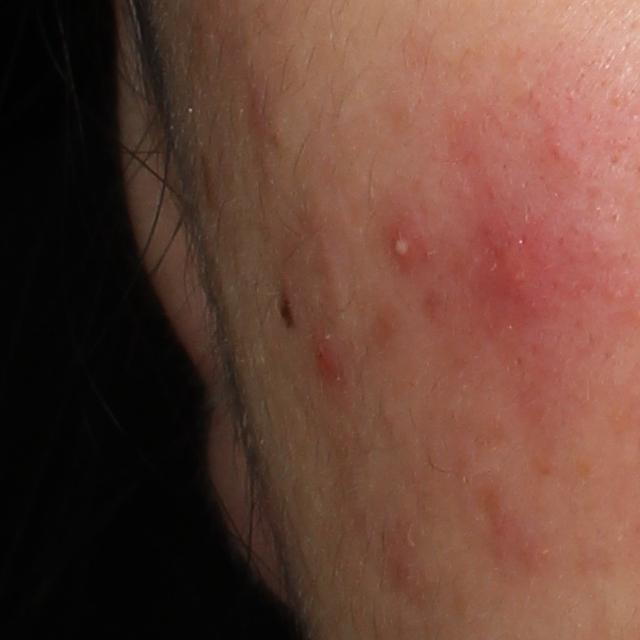nevus: (277, 282, 301, 337)
papule: (389, 547, 427, 605), (310, 334, 348, 388)
pustule: (383, 212, 436, 270)
